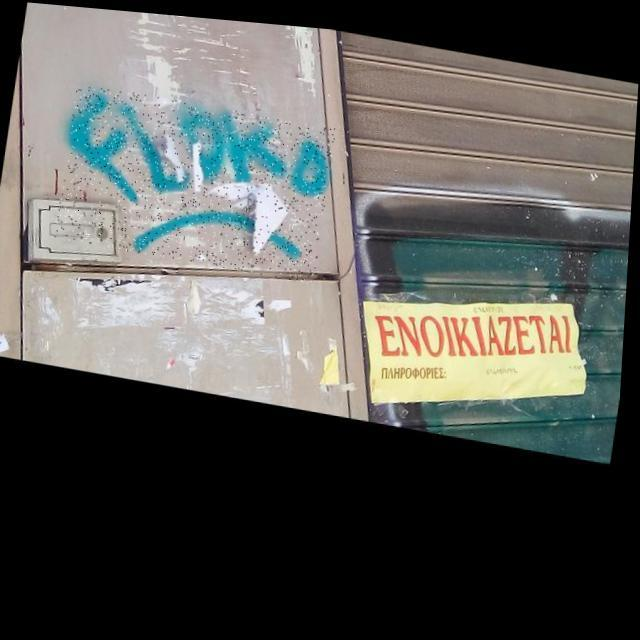-: (56, 80, 338, 278)
